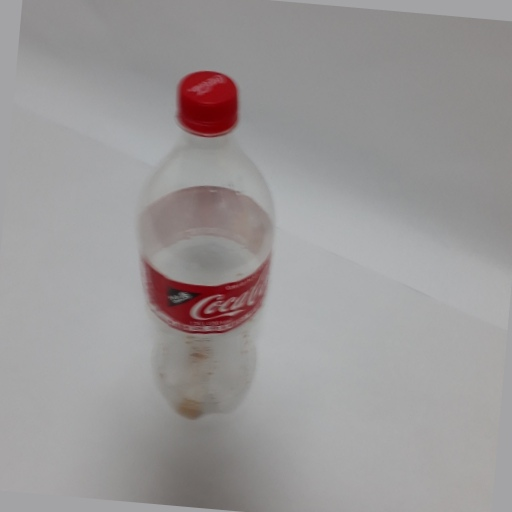Plastic_0: (130, 66, 281, 436)
